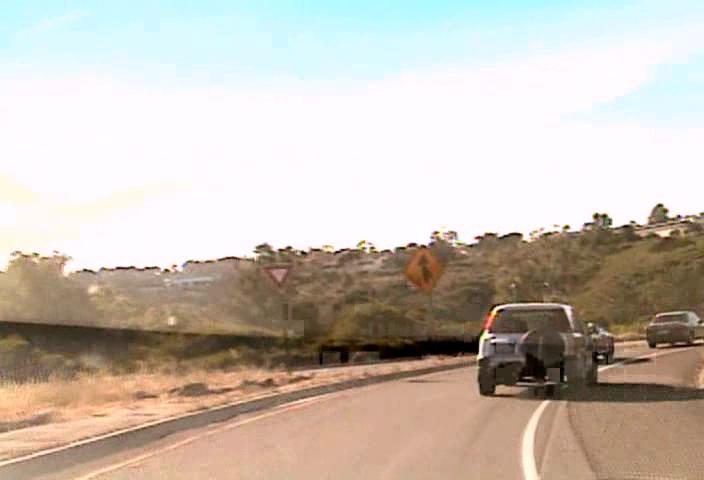yield: (261, 263, 292, 289)
